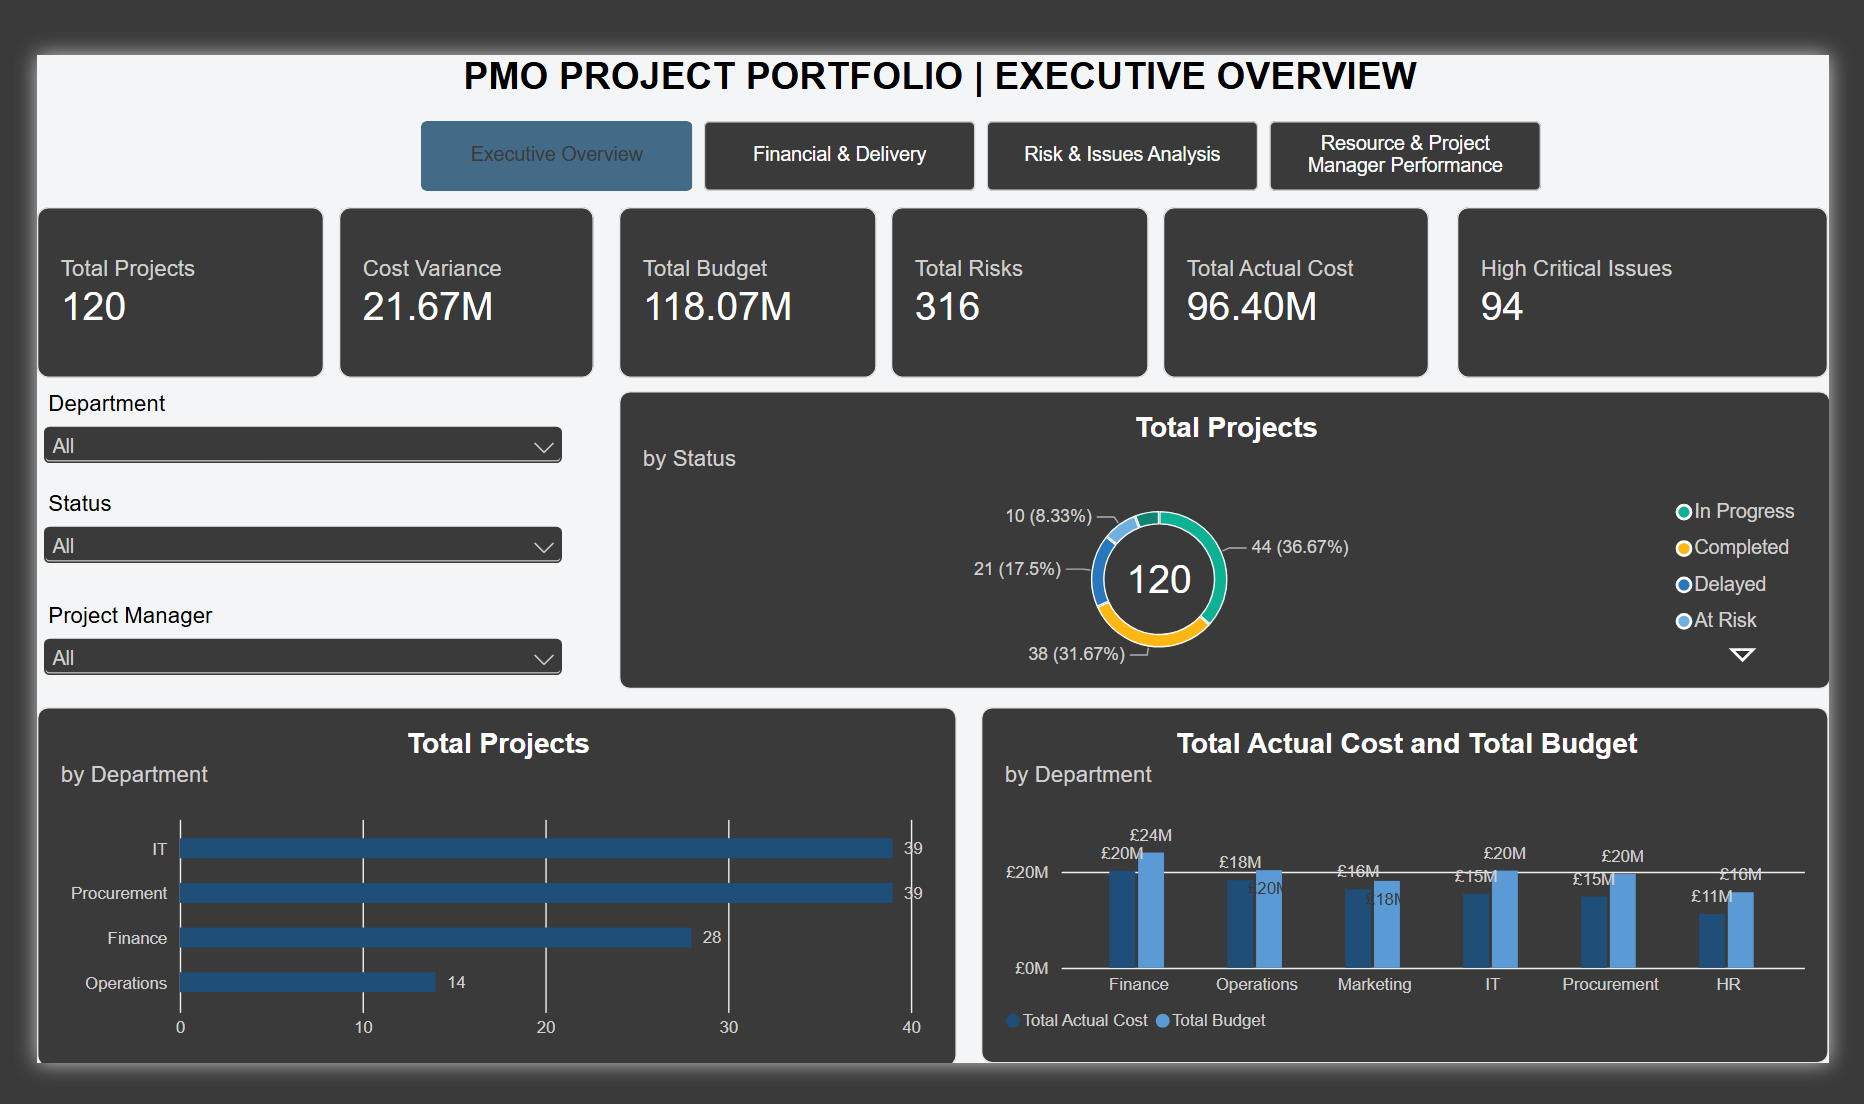

The page's visual inventory and layout, read from the dashboard file:
{"tool":"powerbi","page":{"name":"Executive Overview","canvas":[1280,720],"ordinal":0},"visuals":[{"type":"textbox","box":[9.5,0,1270.5,47.6],"z":0},{"type":"cardVisual","fields":{"Data":["pmo_project_portfolio projects.Total Projects"]},"box":[0,108.8,205.8,122.5],"z":1000},{"type":"cardVisual","fields":{"Data":["pmo_project_portfolio projects.Total Budget"]},"box":[416.2,108.8,184.4,122.5],"z":2000},{"type":"cardVisual","fields":{"Data":["pmo_project_portfolio projects.Total Actual Cost"]},"box":[804.3,108.6,190,122.9],"z":3000},{"type":"cardVisual","fields":{"Data":["pmo_project_portfolio projects.Cost Variance"]},"box":[215.7,108.6,182,122.5],"z":4000},{"type":"cardVisual","fields":{"Data":["pmo_project_portfolio risks.Total Risks"]},"box":[610,108.6,184.3,122.9],"z":5000},{"type":"cardVisual","fields":{"Data":["pmo_project_portfolio issues.High Critical Issues"]},"box":[1014.3,108.6,265.3,122.5],"z":6000},{"type":"donutChart","fields":{"Category":["pmo_project_portfolio projects.status"],"Y":["pmo_project_portfolio projects.Total Projects"]},"box":[415.7,240,865.7,212.9],"z":7000},{"type":"clusteredBarChart","fields":{"Category":["pmo_project_portfolio project_managers.department"],"Y":["pmo_project_portfolio projects.Total Projects"]},"box":[0,465.7,657.1,257.1],"z":8000},{"type":"clusteredColumnChart","fields":{"Category":["pmo_project_portfolio projects.department"],"Y":["pmo_project_portfolio projects.Total Actual Cost","pmo_project_portfolio projects.Total Budget"]},"box":[674.3,465.7,605.7,254.3],"z":9000},{"type":"slicer","fields":{"Values":["pmo_project_portfolio projects.department"]},"box":[0,240,380,58.6],"z":10000},{"type":"slicer","fields":{"Values":["pmo_project_portfolio projects.status"]},"box":[0,311.4,380,71.4],"z":11000},{"type":"slicer","fields":{"Values":["pmo_project_portfolio project_managers.manager_name"]},"box":[0,391.4,380,61.4],"z":12000},{"type":"pageNavigator","box":[274.3,47.1,800,50],"z":13000}]}

Visuals, with their boxes in screenshot pixels (x1, y1, x2, y2):
textbox: left=57, top=53, right=1817, bottom=119
cardVisual - pmo_project_portfolio projects.Total Projects: left=44, top=204, right=329, bottom=374
cardVisual - pmo_project_portfolio projects.Total Budget: left=620, top=204, right=876, bottom=374
cardVisual - pmo_project_portfolio projects.Total Actual Cost: left=1158, top=204, right=1421, bottom=374
cardVisual - pmo_project_portfolio projects.Cost Variance: left=342, top=204, right=595, bottom=374
cardVisual - pmo_project_portfolio risks.Total Risks: left=889, top=204, right=1144, bottom=374
cardVisual - pmo_project_portfolio issues.High Critical Issues: left=1449, top=204, right=1816, bottom=374
donutChart - pmo_project_portfolio projects.status x pmo_project_portfolio projects.Total Projects: left=620, top=386, right=1819, bottom=681
clusteredBarChart - pmo_project_portfolio project_managers.department x pmo_project_portfolio projects.Total Projects: left=44, top=698, right=954, bottom=1055
clusteredColumnChart - pmo_project_portfolio projects.department x pmo_project_portfolio projects.Total Actual Cost: left=978, top=698, right=1817, bottom=1051
slicer - pmo_project_portfolio projects.department: left=44, top=386, right=570, bottom=467
slicer - pmo_project_portfolio projects.status: left=44, top=485, right=570, bottom=584
slicer - pmo_project_portfolio project_managers.manager_name: left=44, top=596, right=570, bottom=681
pageNavigator: left=424, top=119, right=1532, bottom=188
